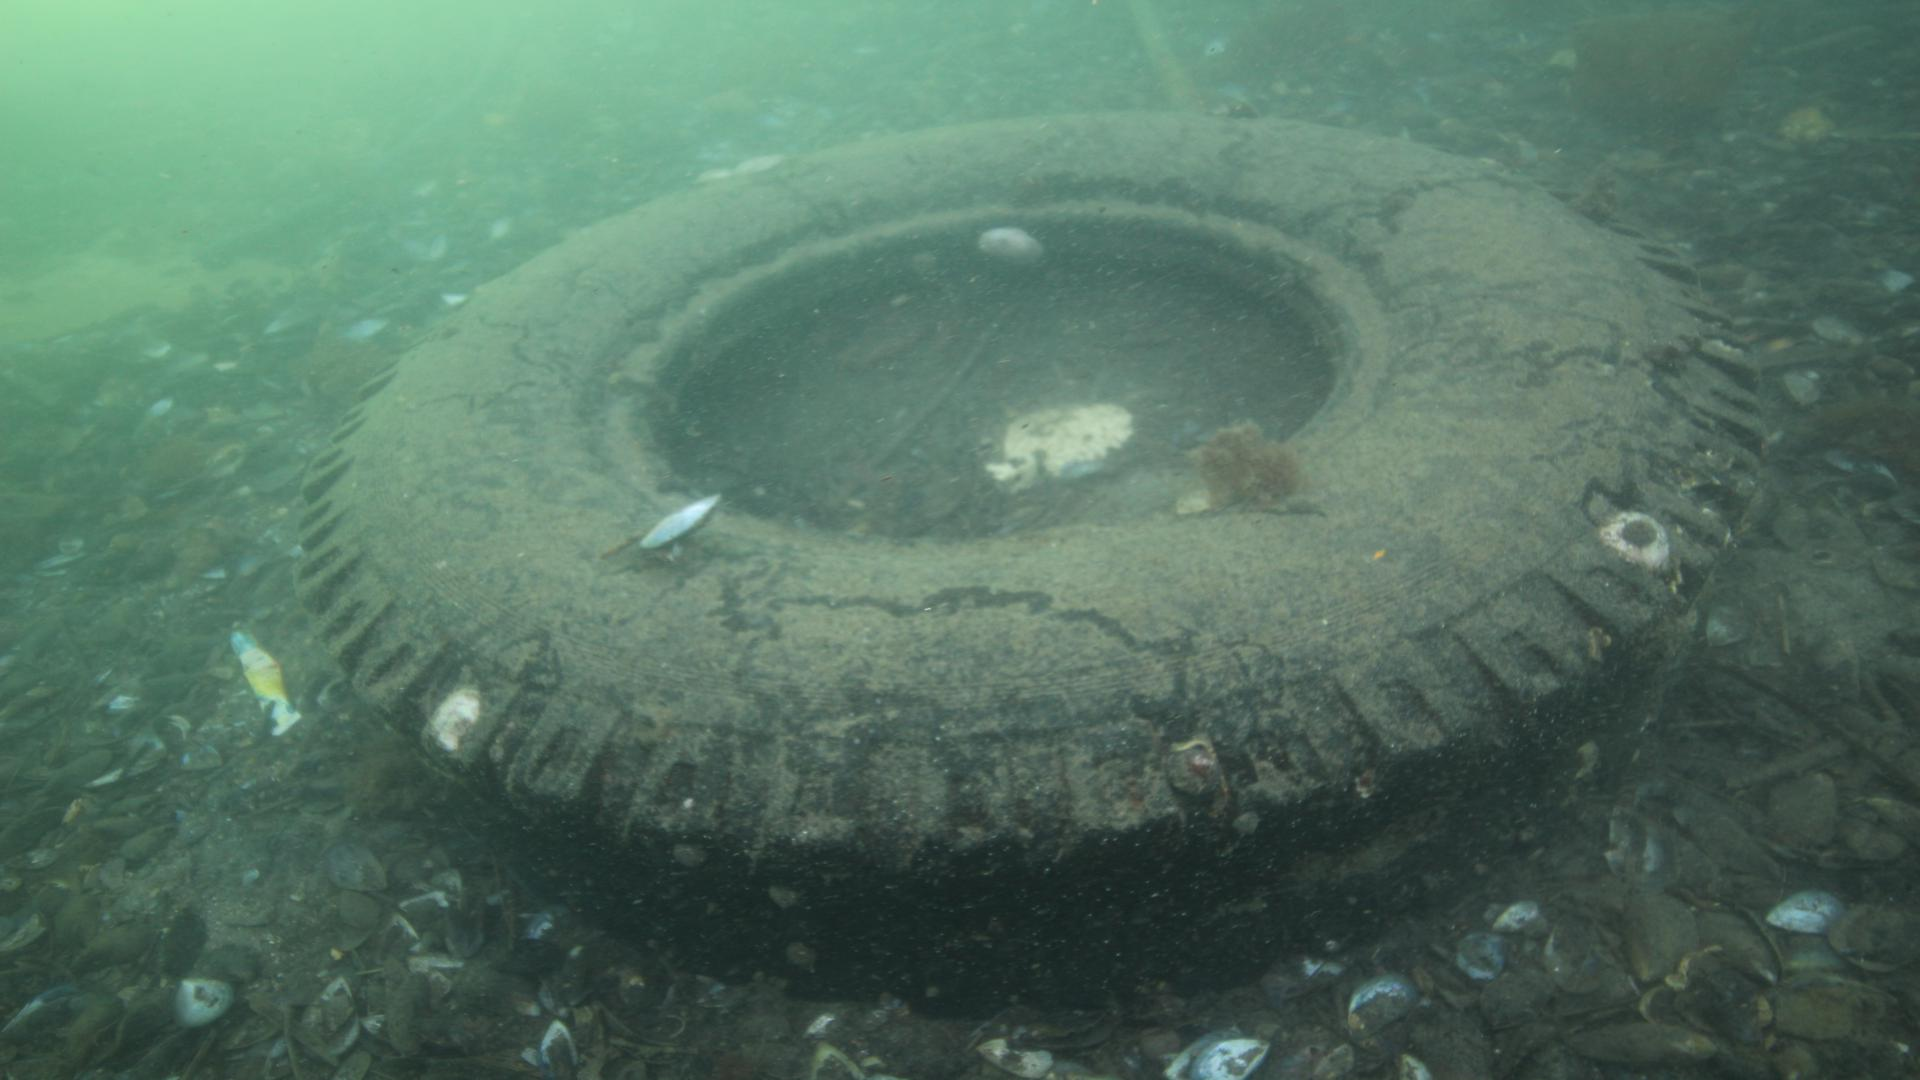tire: (294, 109, 1764, 1001)
